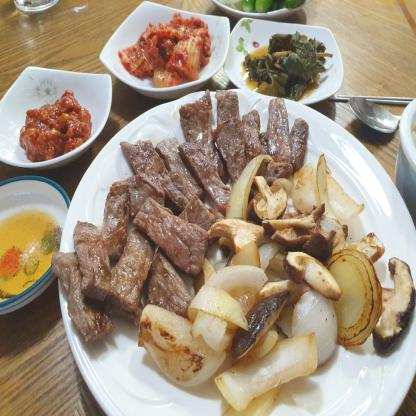Carne: (133, 194, 204, 276), (52, 250, 115, 332), (118, 138, 173, 215), (100, 235, 154, 311), (68, 221, 112, 305), (179, 139, 232, 206), (212, 83, 243, 181), (180, 104, 214, 190), (145, 259, 195, 313), (266, 93, 290, 173), (108, 180, 134, 252), (153, 140, 188, 193), (237, 110, 261, 160), (284, 118, 304, 170)
